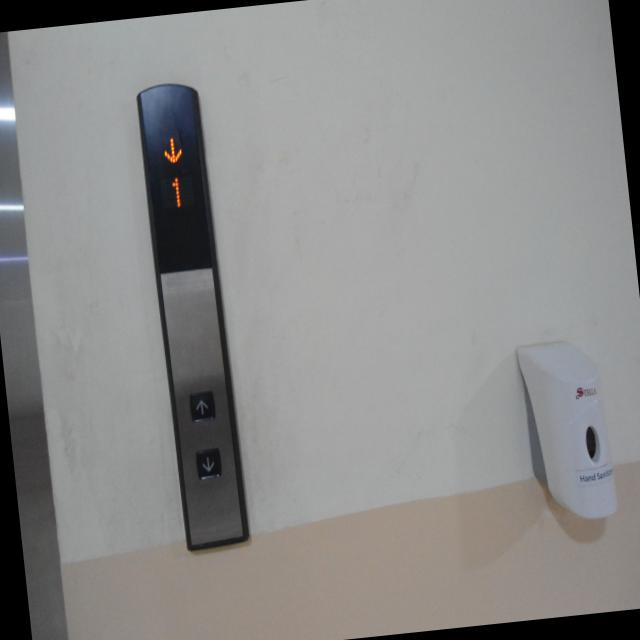liftbutton: (128, 62, 260, 560)
